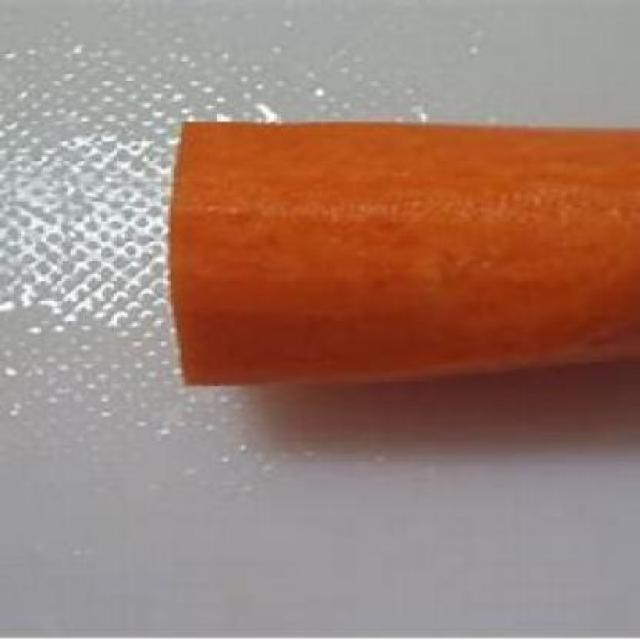carrot: (149, 83, 640, 414)
